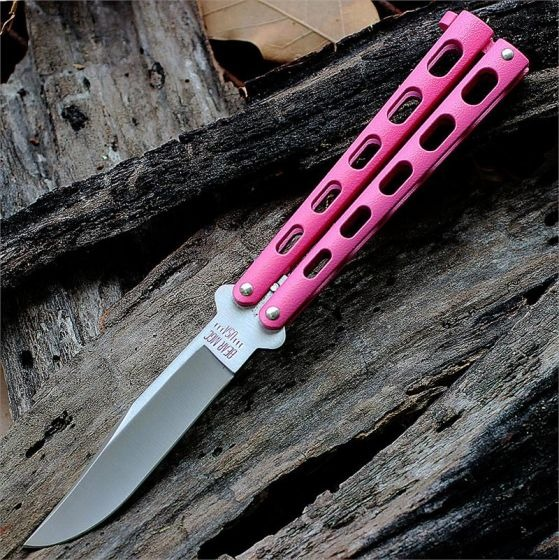knife: (19, 5, 536, 558)
